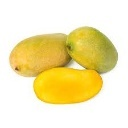mango: (34, 67, 104, 105)
